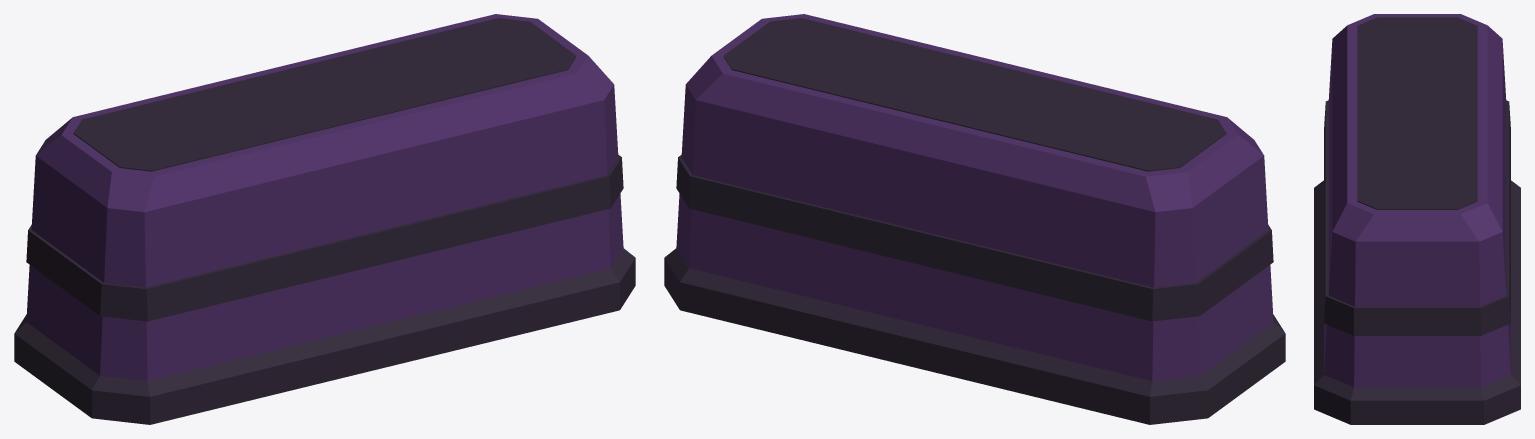
File: SM_SB_Kit_AlienPlinth_300x100x130.fbx
3 views of the same model, side by side, from view 1: azimuth 30°, elevation 25°; view 2: azimuth 150°, elevation 25°; view 3: azimuth 270°, elevation 25° (orthographic). The views are drawn at different scales.
Visible parts, largest first — view 1: SM_SB_Kit_AlienPlinth_300x100x130; view 2: SM_SB_Kit_AlienPlinth_300x100x130; view 3: SM_SB_Kit_AlienPlinth_300x100x130.
Part boxes in pixels (box(x1,y1,x2,y2)): SM_SB_Kit_AlienPlinth_300x100x130: box(14, 14, 635, 424); SM_SB_Kit_AlienPlinth_300x100x130: box(664, 14, 1285, 424); SM_SB_Kit_AlienPlinth_300x100x130: box(1314, 14, 1520, 424).
Bounding box in the file's own units: 324 × 124 × 131.
